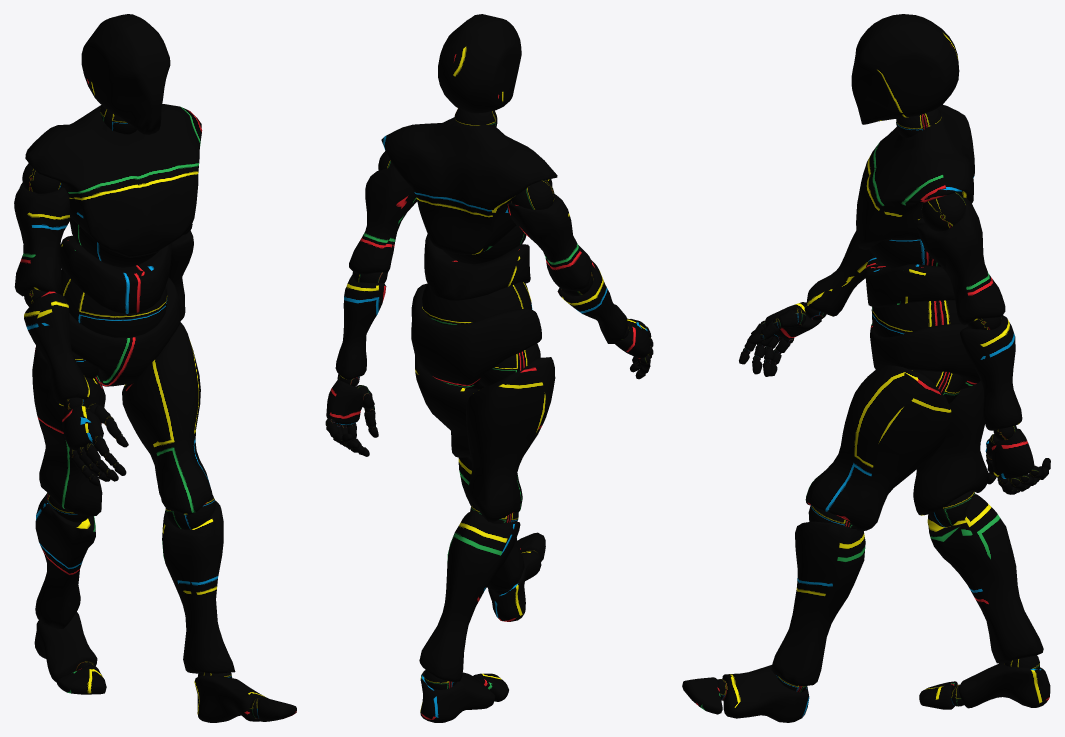
File: y-bot-origin_000017.obj
3 views of the same model, side by side, from view 1: azimuth 30°, elevation 25°; view 2: azimuth 150°, elevation 25°; view 3: azimuth 270°, elevation 25° (orthographic). The views are drawn at different scales.
Visible parts, largest first — view 1: Alpha_Surface_Alpha_SurfaceMesh, Alpha_Joints_Alpha_JointsMesh; view 2: Alpha_Surface_Alpha_SurfaceMesh, Alpha_Joints_Alpha_JointsMesh; view 3: Alpha_Surface_Alpha_SurfaceMesh, Alpha_Joints_Alpha_JointsMesh.
Part boxes in pixels (x1=…): Alpha_Surface_Alpha_SurfaceMesh: x1=14, y1=14, x2=296, y2=722; Alpha_Joints_Alpha_JointsMesh: x1=22, y1=105, x2=261, y2=719; Alpha_Surface_Alpha_SurfaceMesh: x1=326, y1=14, x2=653, y2=722; Alpha_Joints_Alpha_JointsMesh: x1=325, y1=108, x2=652, y2=689; Alpha_Surface_Alpha_SurfaceMesh: x1=682, y1=14, x2=1050, y2=722; Alpha_Joints_Alpha_JointsMesh: x1=717, y1=108, x2=1048, y2=706.
Size of the model in its own units: 0.5944 by 1.77 by 0.8474.
